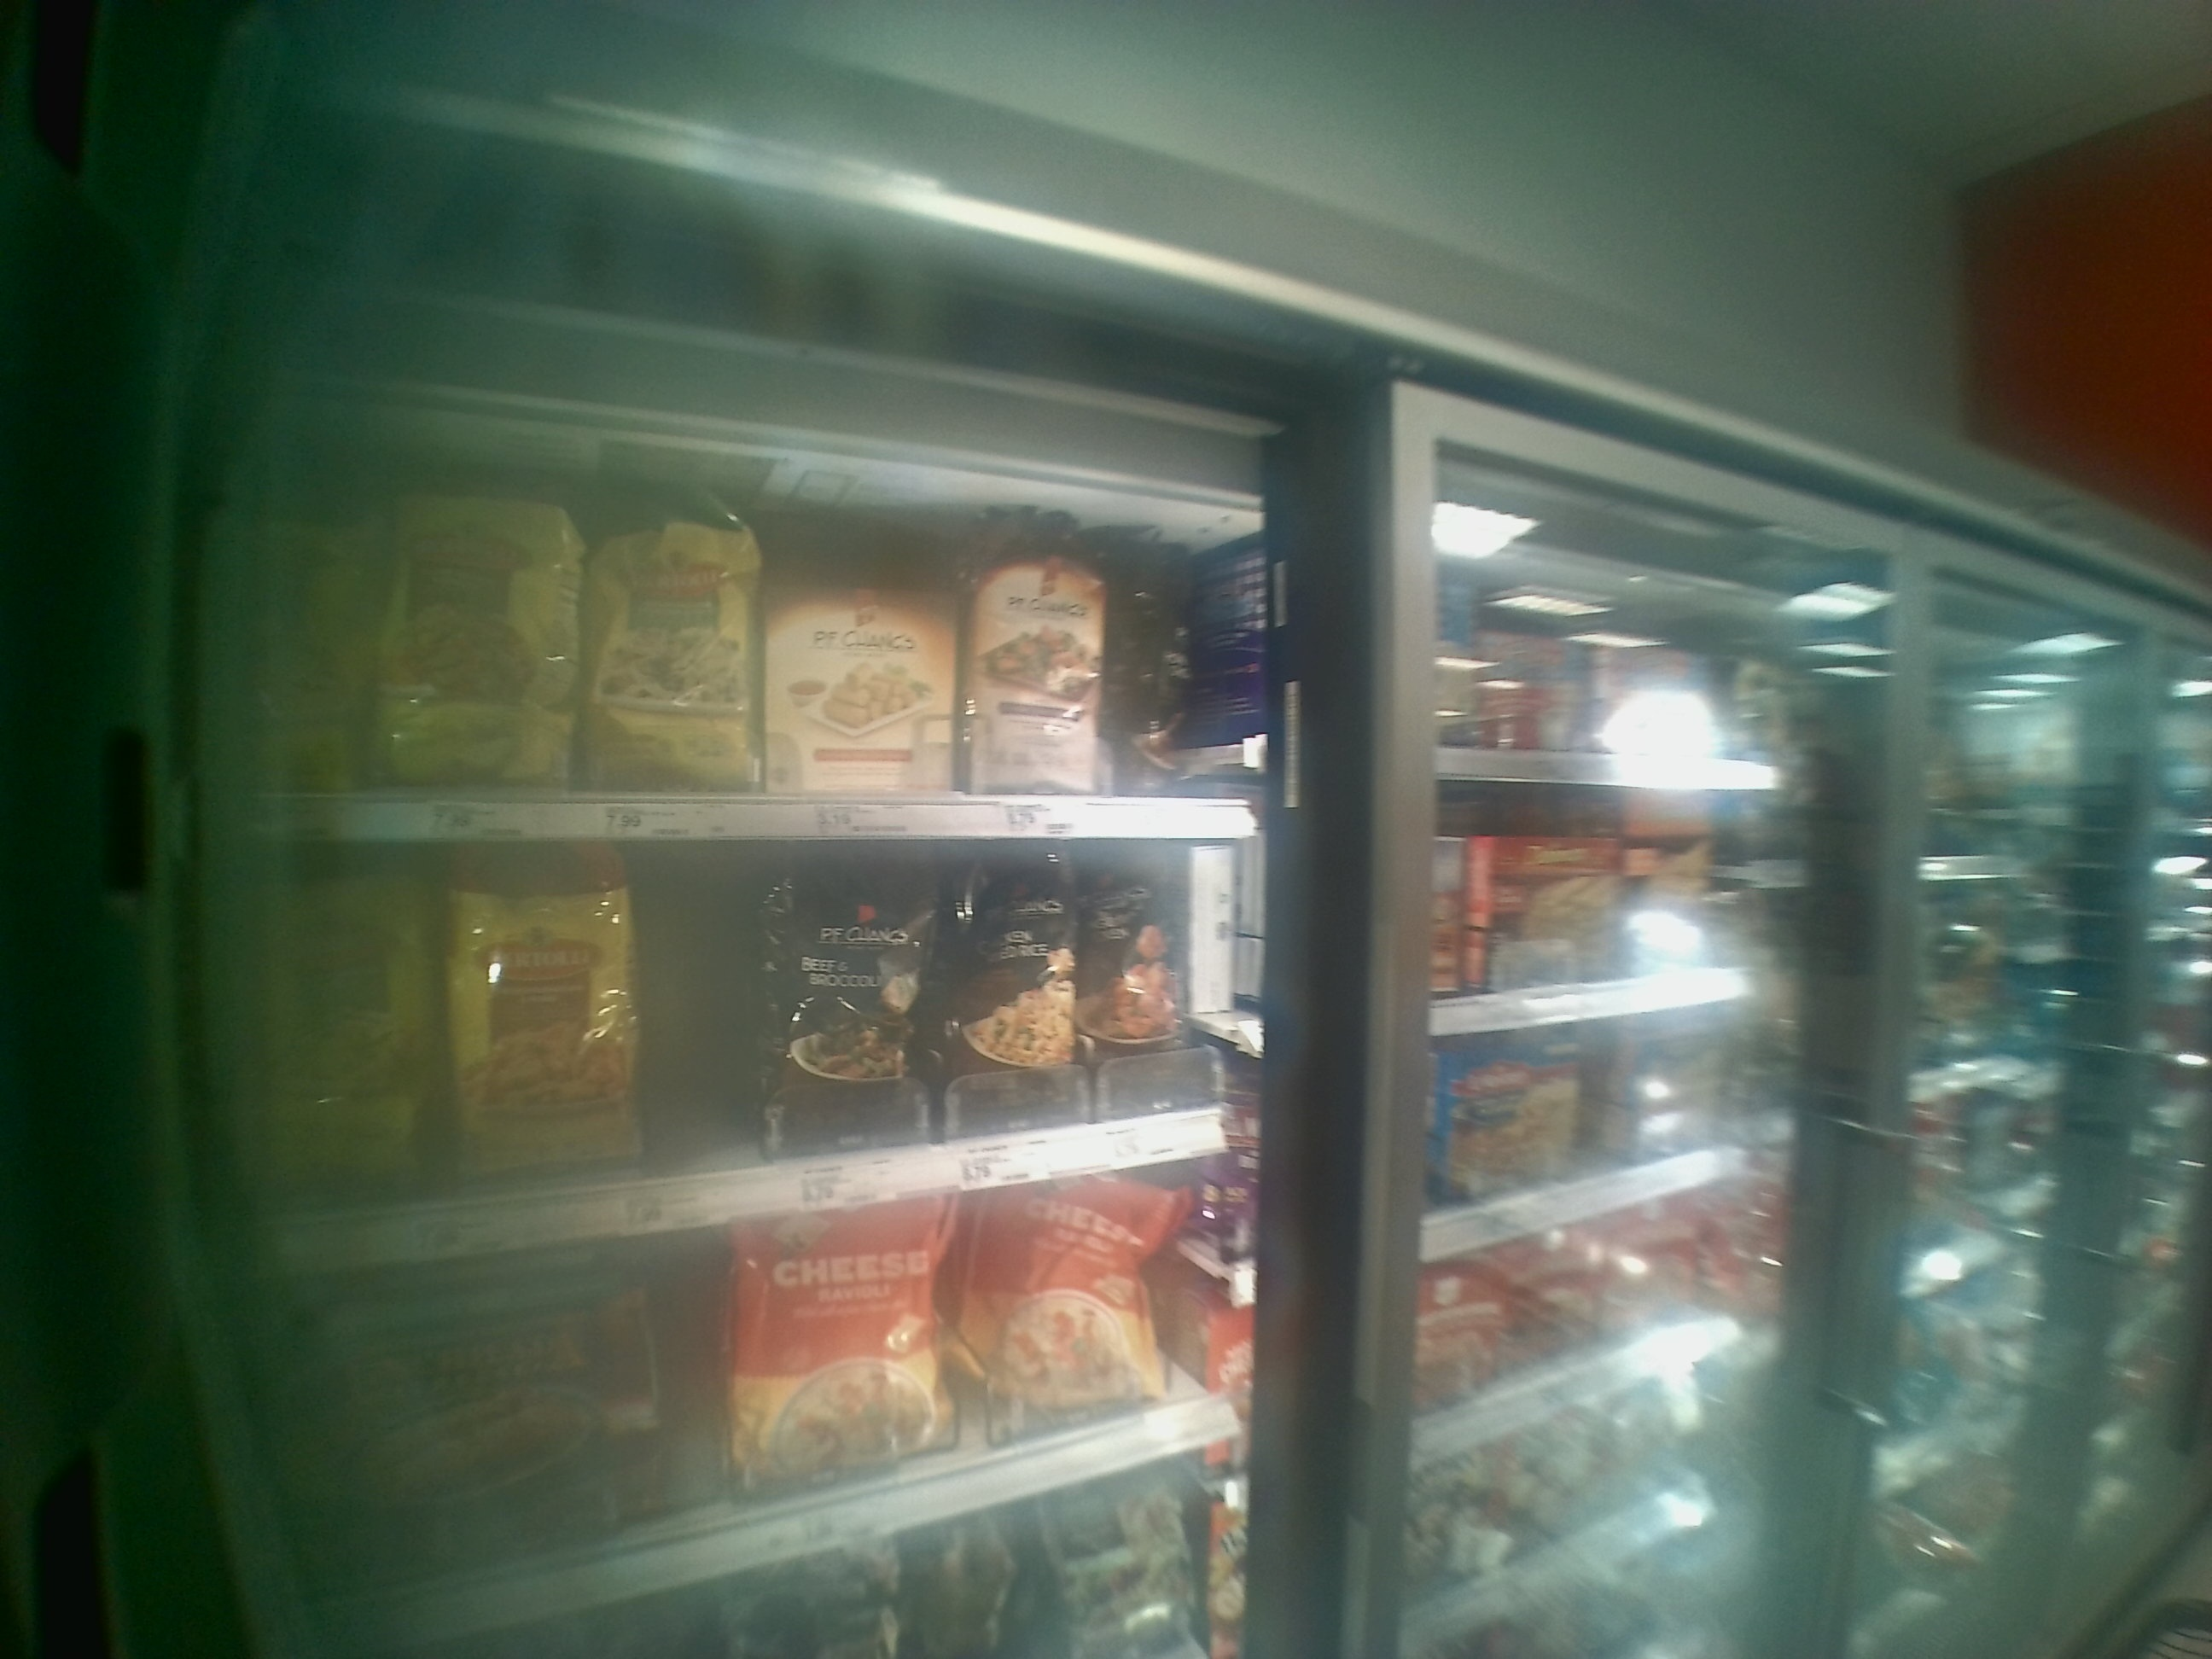shelf: (228, 850, 1258, 1267), (232, 441, 1258, 845)
